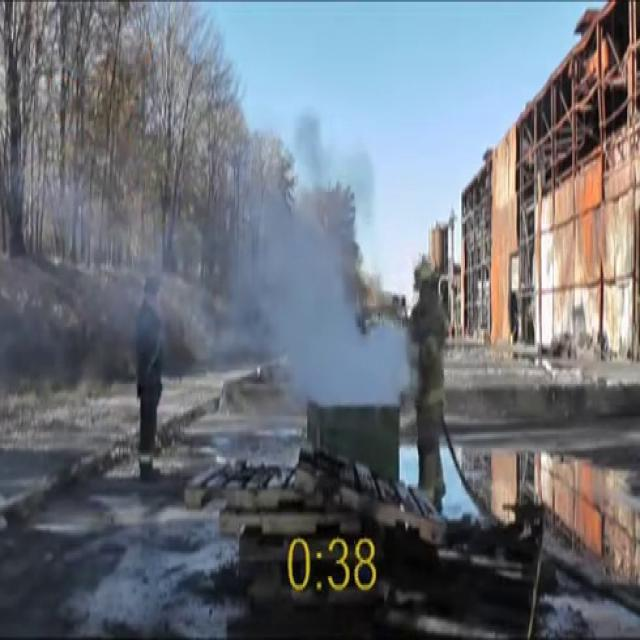Smoke: (192, 109, 393, 419)
